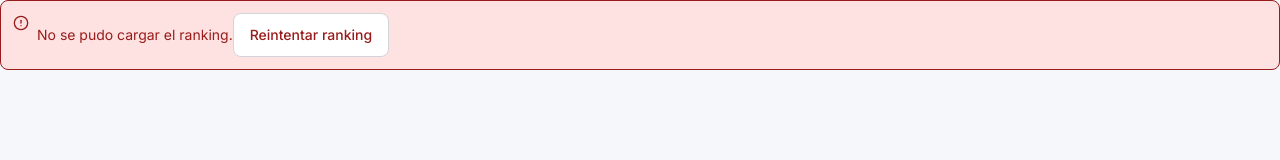
general distingue carga, error y vacío, y reintenta sin exponer error crudo
Later steps or results of the test are not shown.
Expected: the text "No hay individuos vivos" is not shown
Expected: the message does not show "private SQL", [0,0,1279,70]
Click the button "Reintentar ranking" at (311, 35), box [233,13,389,57]
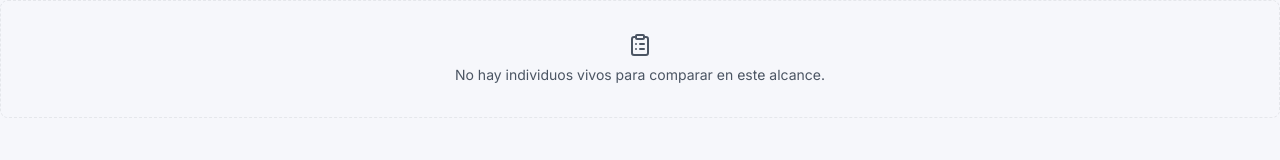
Expected: the text "No hay individuos vivos para comparar en este alcance." is shown, [455,65,825,85]
